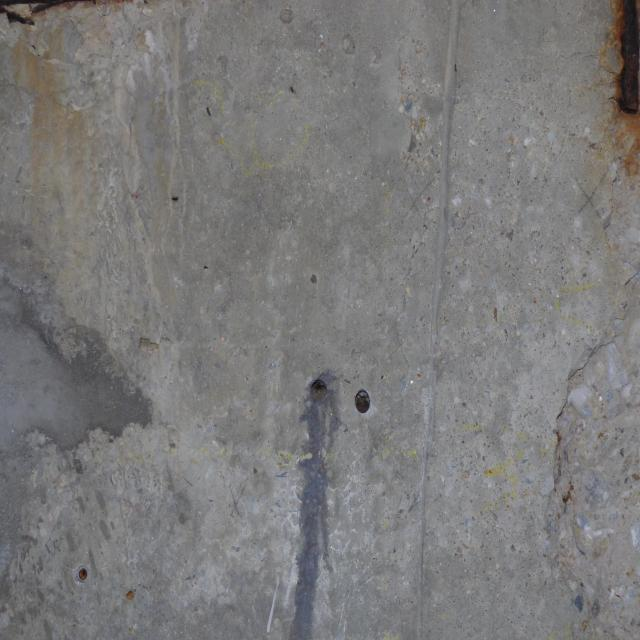Rebar: (602, 0, 640, 174), (2, 0, 125, 29)
concrete spalling: (545, 265, 640, 640)
